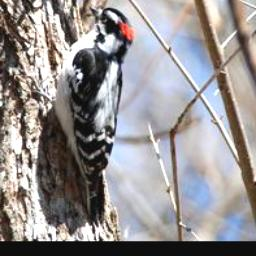Woodpecker: (51, 0, 136, 225)
